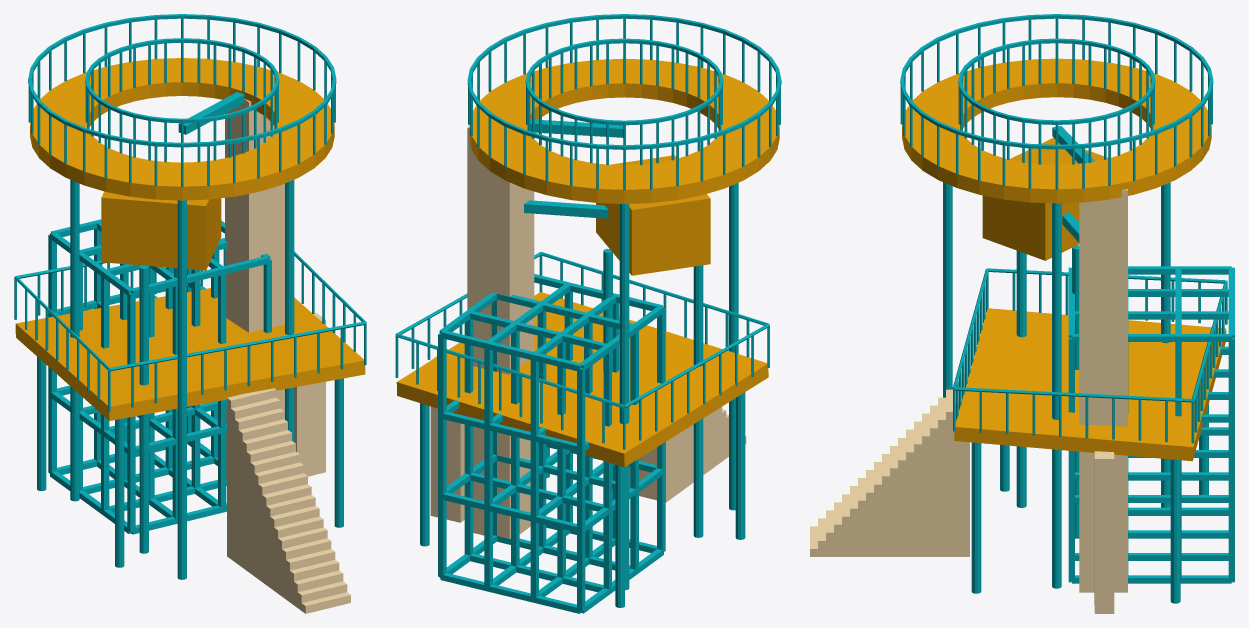
File: folie_tag_058.glb
3 renders of one model, left to right at view 1: azimuth 30°, elevation 25°; view 2: azimuth 150°, elevation 25°; view 3: azimuth 270°, elevation 25°, orthographic.
Parts seen in each view (by area): view 1: folie_tag_058_line, folie_tag_058_01_ring, folie_tag_058_00_cage, folie_tag_058_02_plate, folie_tag_058_stairs, folie_tag_058_core, folie_tag_058_03_block, folie_tag_058_04_fin; view 2: folie_tag_058_00_cage, folie_tag_058_line, folie_tag_058_01_ring, folie_tag_058_02_plate, folie_tag_058_core, folie_tag_058_03_block, folie_tag_058_stairs, folie_tag_058_04_fin; view 3: folie_tag_058_line, folie_tag_058_01_ring, folie_tag_058_02_plate, folie_tag_058_stairs, folie_tag_058_core, folie_tag_058_00_cage, folie_tag_058_03_block, folie_tag_058_04_fin.
Part boxes in pixels (x1,y1,x2,y2): folie_tag_058_line: [14, 14, 366, 579]; folie_tag_058_01_ring: [30, 58, 334, 200]; folie_tag_058_00_cage: [48, 219, 271, 534]; folie_tag_058_02_plate: [15, 288, 365, 420]; folie_tag_058_stairs: [227, 388, 350, 613]; folie_tag_058_core: [225, 99, 284, 479]; folie_tag_058_03_block: [101, 191, 221, 270]; folie_tag_058_04_fin: [294, 313, 325, 476]; folie_tag_058_00_cage: [438, 274, 665, 613]; folie_tag_058_line: [395, 14, 781, 607]; folie_tag_058_01_ring: [469, 58, 779, 203]; folie_tag_058_02_plate: [396, 292, 768, 467]; folie_tag_058_core: [467, 127, 534, 538]; folie_tag_058_03_block: [596, 155, 710, 275]; folie_tag_058_stairs: [629, 407, 746, 502]; folie_tag_058_04_fin: [430, 356, 464, 522]; folie_tag_058_line: [900, 14, 1227, 603]; folie_tag_058_01_ring: [902, 58, 1211, 203]; folie_tag_058_02_plate: [954, 308, 1226, 461]; folie_tag_058_stairs: [810, 373, 969, 556]; folie_tag_058_core: [1079, 189, 1127, 592]; folie_tag_058_00_cage: [1068, 266, 1234, 583]; folie_tag_058_03_block: [982, 138, 1108, 260]; folie_tag_058_04_fin: [1094, 451, 1114, 613].
Size of the model in its own units: 7.81 by 11.34 by 9.56.
